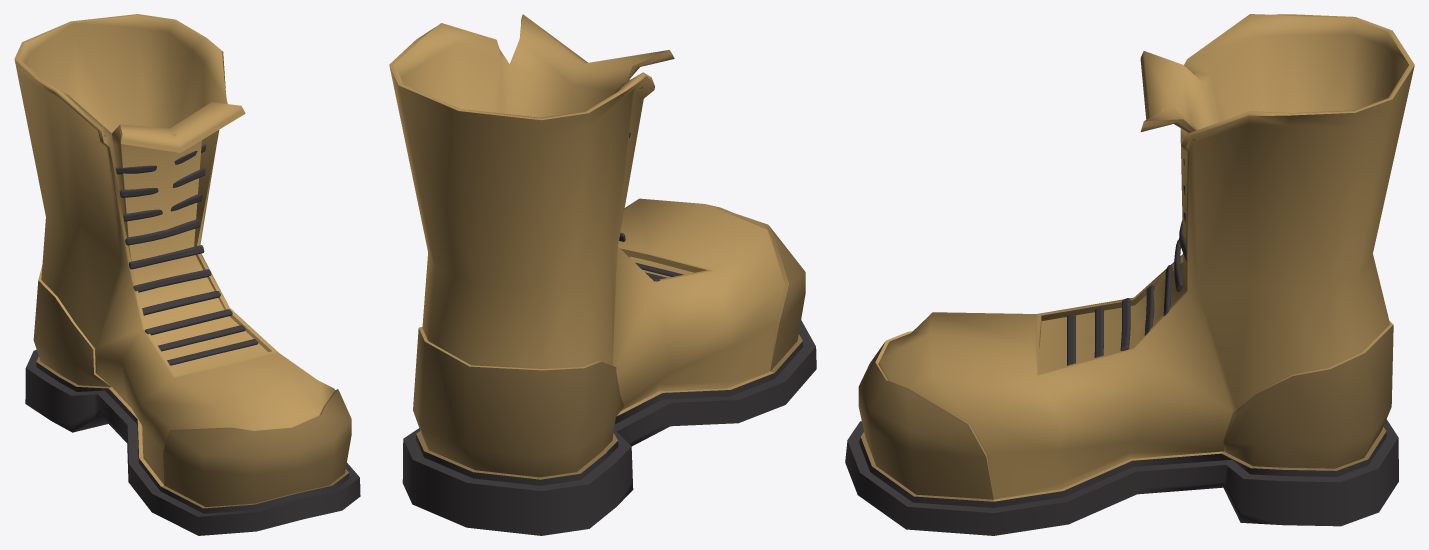
The model's file is SimpleBoot.dae.
3 views of the same model, side by side, from view 1: azimuth 30°, elevation 25°; view 2: azimuth 150°, elevation 25°; view 3: azimuth 270°, elevation 25° (orthographic). The views are drawn at different scales.
Parts seen in each view (by area): view 1: Plane, Cloner.1; view 2: Plane; view 3: Plane, Cloner.1.
Part boxes in pixels (left/top/right/bottom): Plane: left=14, top=14, right=360, bottom=535; Cloner.1: left=109, top=144, right=258, bottom=365; Plane: left=389, top=14, right=816, bottom=535; Plane: left=845, top=14, right=1414, bottom=535; Cloner.1: left=1067, top=159, right=1186, bottom=365.
Size of the model in its own units: 172 by 308 by 378.
